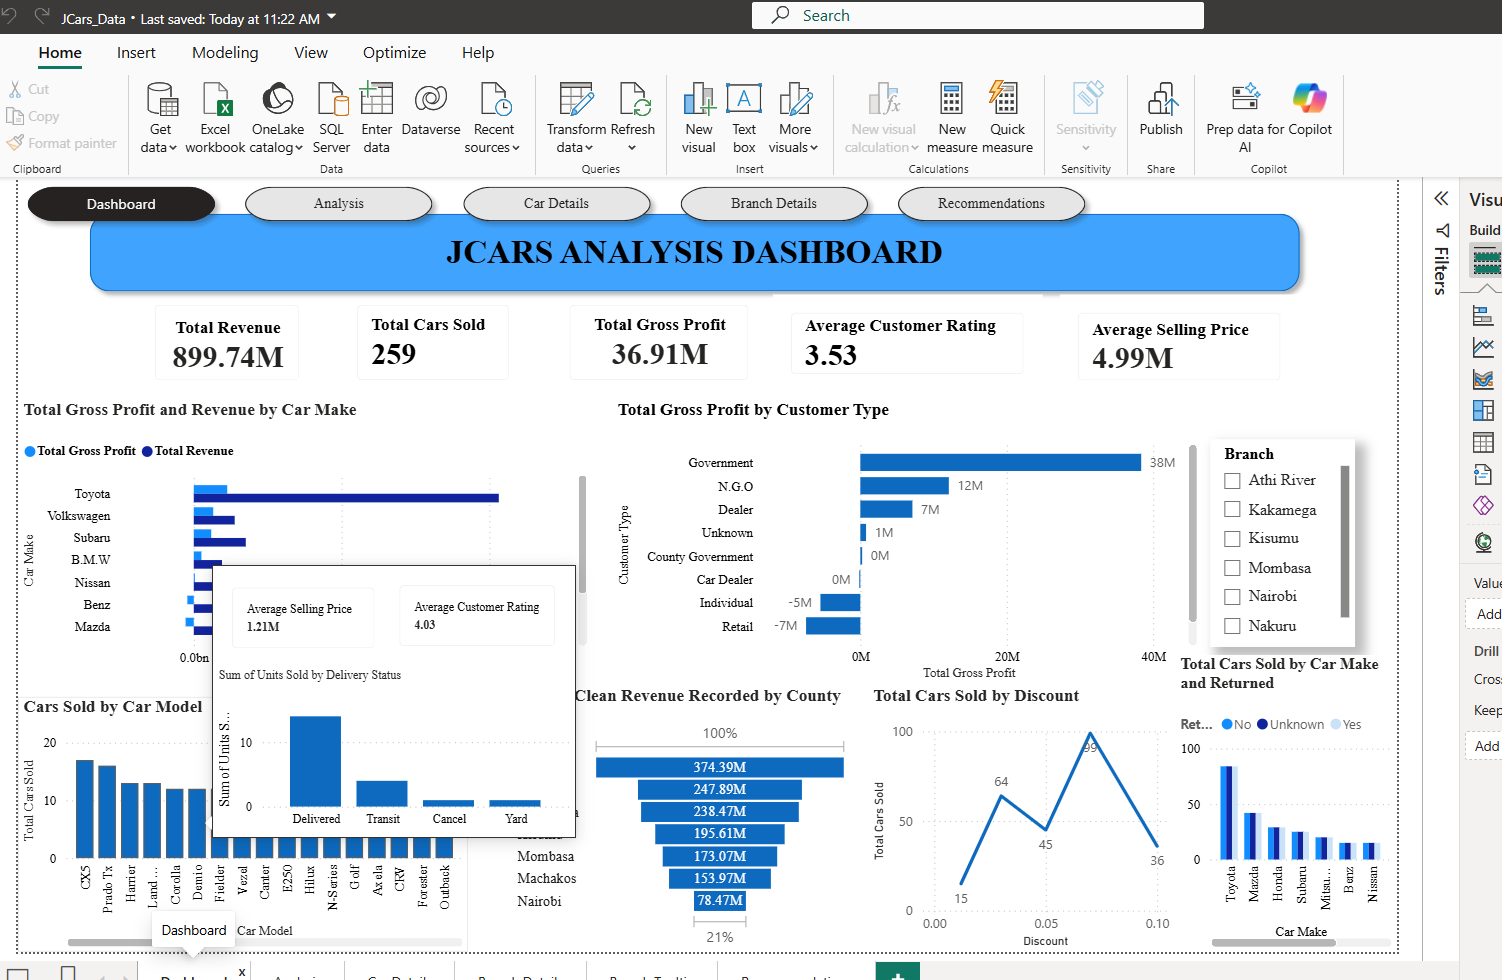

The page's visual inventory and layout, read from the dashboard file:
{"tool":"powerbi","page":{"name":"Dashboard","canvas":[1280,720],"ordinal":0},"visuals":[{"type":"cardVisual","fields":{"Data":["Dim Customer.Total Revenue"]},"box":[110.2,101.8,168.9,104.9],"z":0},{"type":"cardVisual","fields":{"Data":["Dim Customer.Total Cars Sold"]},"box":[297.9,101.8,175.2,104.9],"z":1000},{"type":"cardVisual","fields":{"Data":["Dim Customer.Total Gross Profit"]},"box":[495.2,101.8,200.4,104.9],"z":2000},{"type":"clusteredColumnChart","title":"Cars Sold by Car Model","fields":{"Category":["Dim Vehicle.Car Model"],"Y":["Dim Customer.Total Cars Sold"]},"box":[0,482.6,417.5,237.1],"z":3000},{"type":"clusteredBarChart","title":"Total Gross Profit and Revenue by Car Make","fields":{"Category":["Dim Vehicle.Car Make"],"Y":["Dim Customer.Total Gross Profit","Dim Customer.Total Revenue"]},"box":[0,206.7,532.9,265.4],"z":4000},{"type":"clusteredBarChart","fields":{"Category":["Dim Customer.Customer Type"],"Y":["Dim Customer.Total Gross Profit"]},"box":[551.8,206.7,547.6,265.4],"z":5000},{"type":"lineChart","fields":{"Category":["Dim Payment.Discount"],"Y":["Dim Customer.Total Cars Sold"]},"box":[788.9,472.1,285.3,247.6],"z":6000},{"type":"shape","box":[57.7,25.2,1141.1,90],"z":7000},{"type":"slicer","fields":{"Values":["Dim Locations.Branch"]},"box":[1106.8,243.4,134.3,193],"z":9000},{"type":"clusteredColumnChart","fields":{"Category":["Dim Vehicle.Car Make"],"Series":["Dim Order.Returned"],"Y":["Dim Customer.Total Cars Sold"]},"box":[1074.2,443.8,205.6,275.9],"z":10000},{"type":"cardVisual","fields":{"Data":["Dim Customer.Average Customer Rating"]},"box":[700.8,109.1,250.7,91.3],"z":11000},{"type":"cardVisual","fields":{"Data":["Dim Customer.Average Selling Price"]},"box":[967.2,109.1,222.4,97.6],"z":12000},{"type":"pageNavigator","box":[0,0,1000,50],"z":13000},{"type":"funnel","fields":{"Category":["Dim Locations.County"],"Y":["Sum(Facts_Data.Clean Revenue Recorded)"]},"box":[458.4,472.1,317.9,247.6],"z":13001}]}

Visuals, with their boxes on the page's 1280x720 design canvas (x1, y1, x2, y2). These are canvas units, not pixel positions in the 1502x980 screenshot, which may show the page scaled, cropped or inside an application window:
cardVisual - Dim Customer.Total Revenue: (110, 102, 279, 207)
cardVisual - Dim Customer.Total Cars Sold: (298, 102, 473, 207)
cardVisual - Dim Customer.Total Gross Profit: (495, 102, 696, 207)
"Cars Sold by Car Model" clusteredColumnChart: (0, 483, 418, 720)
"Total Gross Profit and Revenue by Car Make" clusteredBarChart: (0, 207, 533, 472)
clusteredBarChart - Dim Customer.Customer Type x Dim Customer.Total Gross Profit: (552, 207, 1099, 472)
lineChart - Dim Payment.Discount x Dim Customer.Total Cars Sold: (789, 472, 1074, 720)
shape: (58, 25, 1199, 115)
slicer - Dim Locations.Branch: (1107, 243, 1241, 436)
clusteredColumnChart - Dim Vehicle.Car Make x Dim Order.Returned: (1074, 444, 1280, 720)
cardVisual - Dim Customer.Average Customer Rating: (701, 109, 952, 200)
cardVisual - Dim Customer.Average Selling Price: (967, 109, 1190, 207)
pageNavigator: (0, 0, 1000, 50)
funnel - Dim Locations.County x Sum(Facts_Data.Clean Revenue Recorded): (458, 472, 776, 720)
